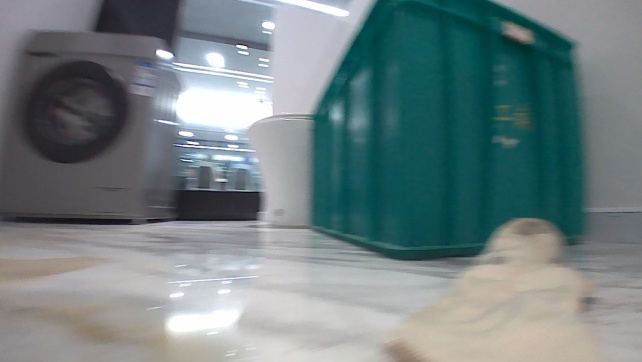socks: (375, 215, 617, 361)
toilet: (245, 111, 316, 227)
washing_machine: (0, 26, 187, 225)
